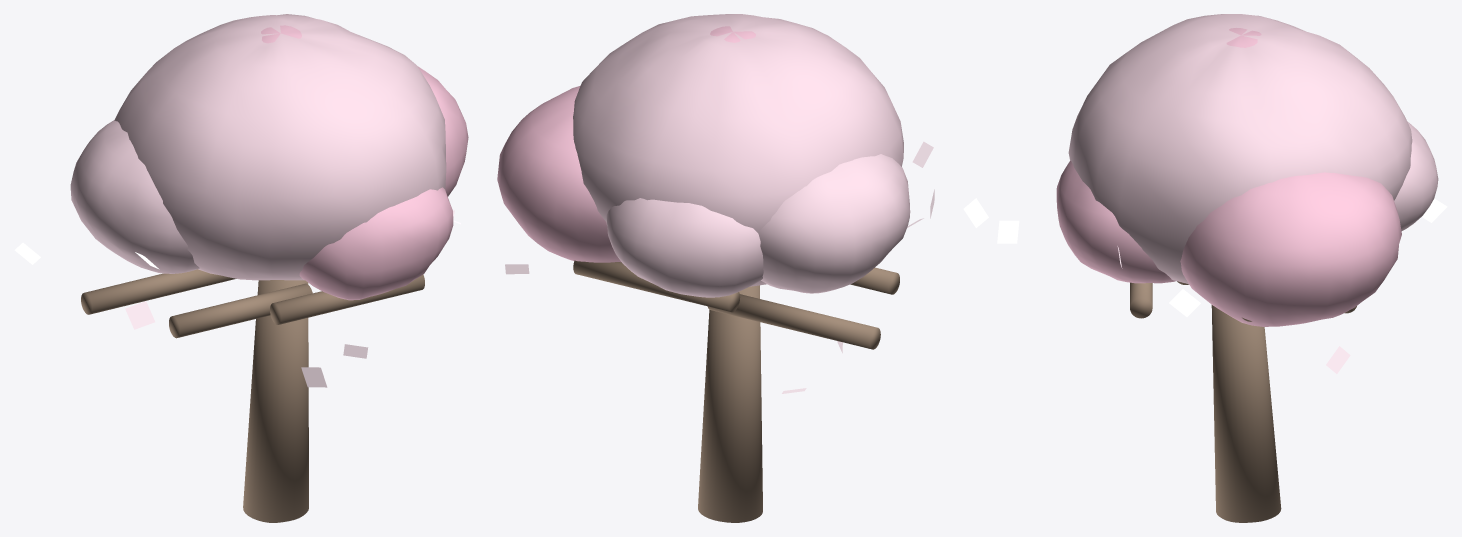
Rendered from flowertree.glb.
3 views of the same model, side by side, from view 1: azimuth 30°, elevation 25°; view 2: azimuth 150°, elevation 25°; view 3: azimuth 270°, elevation 25° (orthographic).
Visible parts, largest first — view 1: Canopy_0, Trunk, Canopy_2, Canopy_3, Branch_2, Branch_3, Branch_4, Canopy_1, Petal_5; view 2: Canopy_0, Canopy_2, Trunk, Canopy_1, Canopy_4, Branch_2, Branch_1, Branch_3; view 3: Canopy_0, Canopy_1, Trunk, Canopy_3, Canopy_4, Branch_4.
Part boxes in pixels (x1=…): Canopy_0: x1=114, y1=14, x2=446, y2=280; Trunk: x1=243, y1=280, x2=308, y2=522; Canopy_2: x1=70, y1=120, x2=199, y2=273; Canopy_3: x1=299, y1=187, x2=453, y2=300; Branch_2: x1=81, y1=269, x2=236, y2=314; Branch_3: x1=169, y1=283, x2=312, y2=338; Branch_4: x1=270, y1=274, x2=424, y2=324; Canopy_1: x1=418, y1=66, x2=468, y2=196; Petal_5: x1=125, y1=301, x2=154, y2=329; Canopy_0: x1=573, y1=14, x2=903, y2=286; Canopy_2: x1=758, y1=154, x2=910, y2=293; Trunk: x1=698, y1=285, x2=762, y2=522; Canopy_1: x1=497, y1=86, x2=621, y2=262; Canopy_4: x1=606, y1=198, x2=763, y2=297; Branch_2: x1=707, y1=294, x2=880, y2=349; Branch_1: x1=573, y1=260, x2=740, y2=312; Branch_3: x1=850, y1=267, x2=899, y2=294; Canopy_0: x1=1068, y1=14, x2=1412, y2=283; Canopy_1: x1=1180, y1=172, x2=1401, y2=326; Trunk: x1=1211, y1=305, x2=1281, y2=522; Canopy_3: x1=1056, y1=161, x2=1175, y2=283; Canopy_4: x1=1394, y1=121, x2=1438, y2=230; Branch_4: x1=1130, y1=282, x2=1152, y2=318.
Size of the model in its own units: 4.62 by 5.59 by 5.15.
